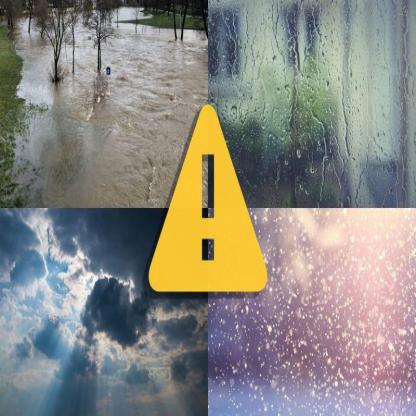other: (158, 98, 273, 322), (285, 206, 384, 294), (57, 248, 80, 286)
